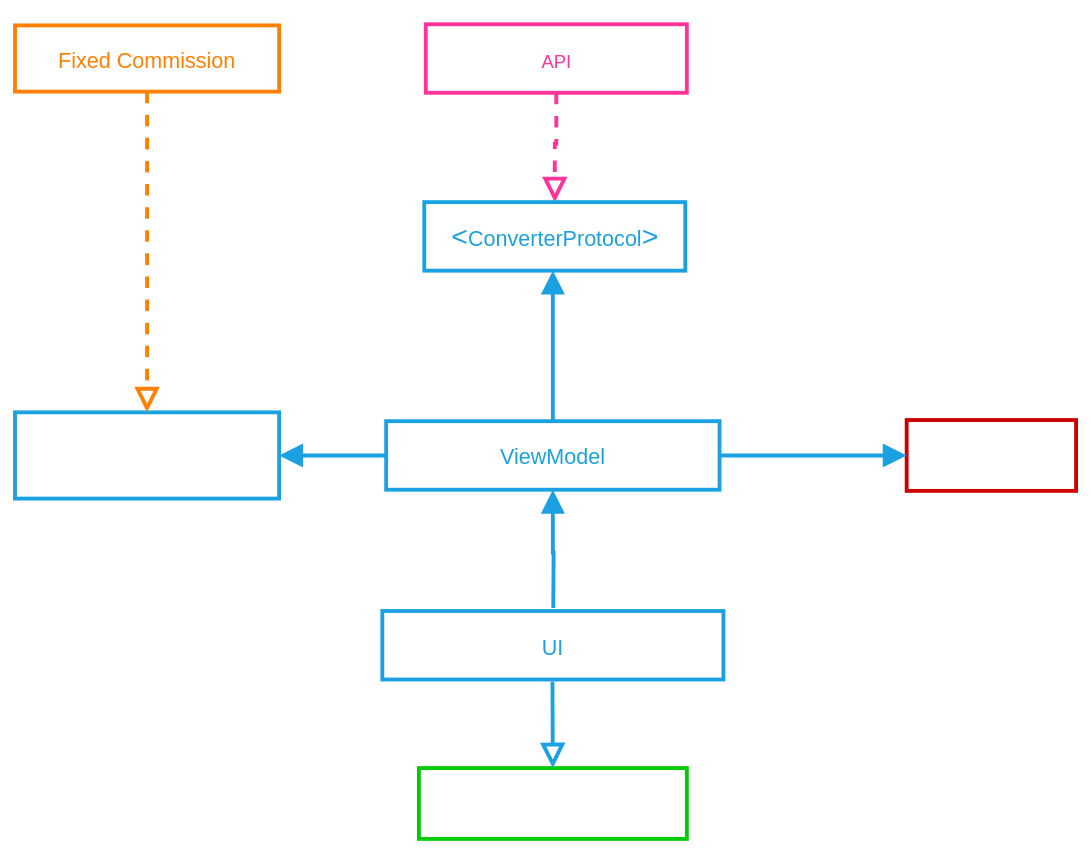
The diagram is 1091 pixels wide and 854 high, and some of its shapes have lost their labels. Each missing label, with the centre of its shape:
<CommissionCalculator>: (147,455)
UIKit: (552,803)
UserAccount: (991,455)
